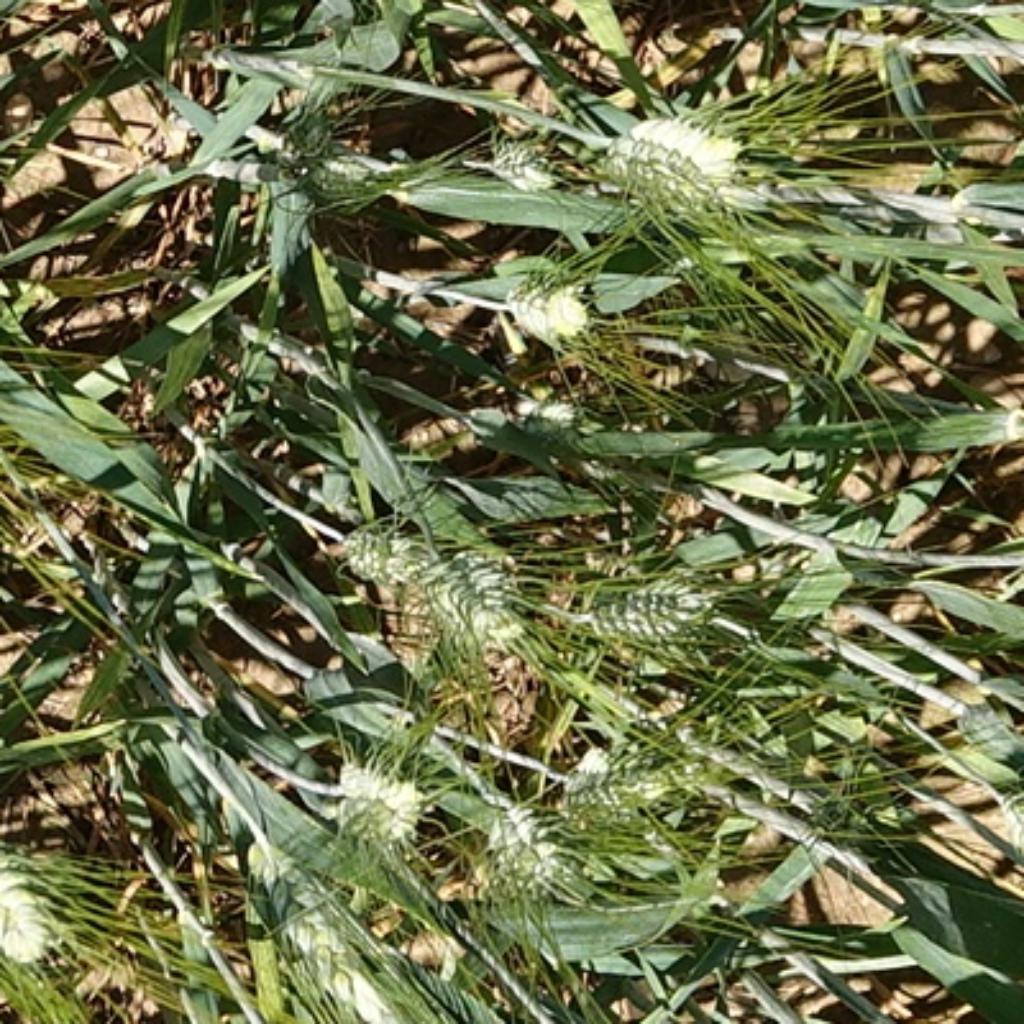0-0: (227, 834, 394, 1013), (586, 94, 757, 222), (568, 555, 727, 655), (460, 775, 573, 908), (0, 832, 92, 988), (553, 734, 702, 828), (488, 253, 619, 358), (419, 542, 542, 652), (320, 742, 427, 852), (300, 127, 407, 218), (348, 504, 455, 588), (504, 384, 622, 442), (476, 122, 568, 194), (960, 689, 1024, 778)
